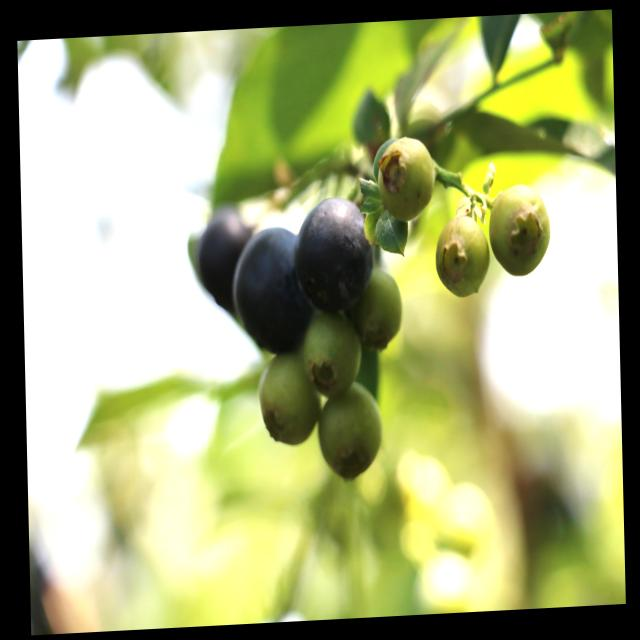blueberry: (234, 222, 313, 352), (295, 194, 377, 314)
blueberry-unripe: (316, 376, 385, 485), (487, 180, 556, 284), (258, 343, 320, 449), (301, 304, 366, 392), (375, 133, 437, 221), (433, 212, 492, 304), (354, 262, 406, 350)
